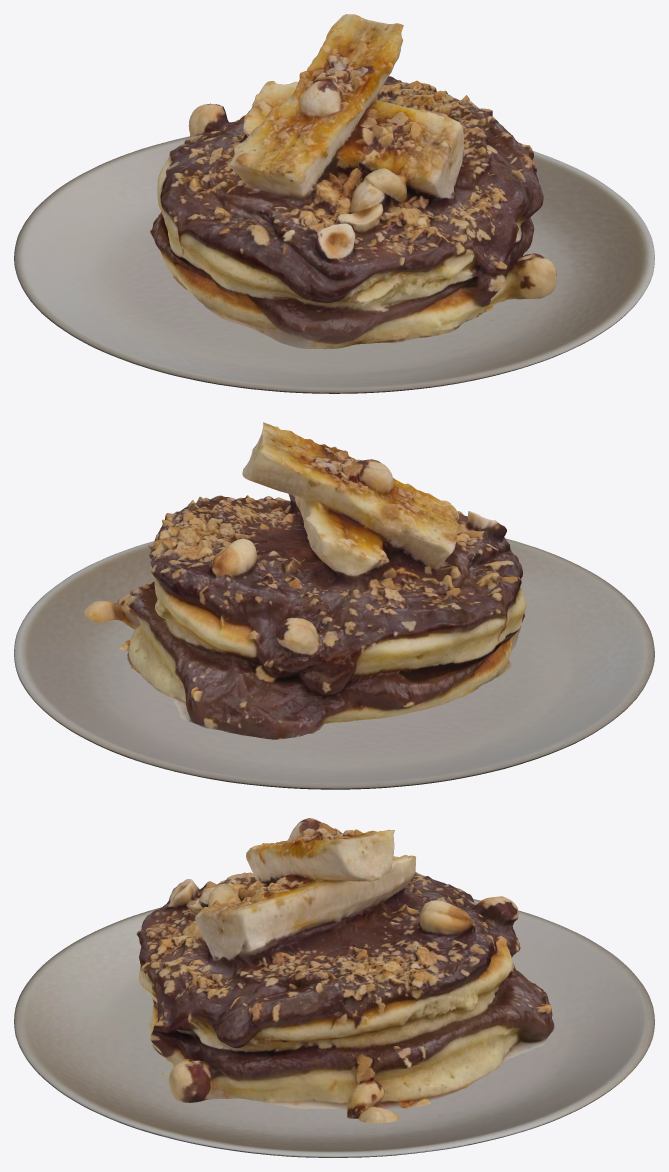
3 views of the same model, one above another, from view 1: azimuth 30°, elevation 25°; view 2: azimuth 150°, elevation 25°; view 3: azimuth 270°, elevation 25° (orthographic).
Visible parts, largest first — view 1: /Root/Scenes/Scene/Object_37/Object_38/Submesh_0, /Root/Scenes/Scene/Object_37/Object_39/Object_40/Submesh_0; view 2: /Root/Scenes/Scene/Object_37/Object_38/Submesh_0, /Root/Scenes/Scene/Object_37/Object_39/Object_40/Submesh_0; view 3: /Root/Scenes/Scene/Object_37/Object_38/Submesh_0, /Root/Scenes/Scene/Object_37/Object_39/Object_40/Submesh_0.
Part boxes in pixels (x1=…): /Root/Scenes/Scene/Object_37/Object_38/Submesh_0: x1=150, y1=14, x2=556, y2=349; /Root/Scenes/Scene/Object_37/Object_39/Object_40/Submesh_0: x1=14, y1=136, x2=654, y2=393; /Root/Scenes/Scene/Object_37/Object_38/Submesh_0: x1=79, y1=422, x2=526, y2=739; /Root/Scenes/Scene/Object_37/Object_39/Object_40/Submesh_0: x1=14, y1=538, x2=654, y2=789; /Root/Scenes/Scene/Object_37/Object_38/Submesh_0: x1=136, y1=818, x2=554, y2=1123; /Root/Scenes/Scene/Object_37/Object_39/Object_40/Submesh_0: x1=14, y1=899, x2=654, y2=1157.
Size of the model in its own units: 0.2801 by 0.1143 by 0.2801.
Materials: 2 (2 with a texture image).
